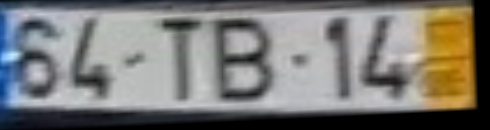1: (322, 14, 355, 107)
4: (360, 13, 418, 107), (66, 15, 122, 106)
6: (11, 15, 64, 104)
B: (215, 15, 278, 108)
T: (158, 16, 208, 106)
